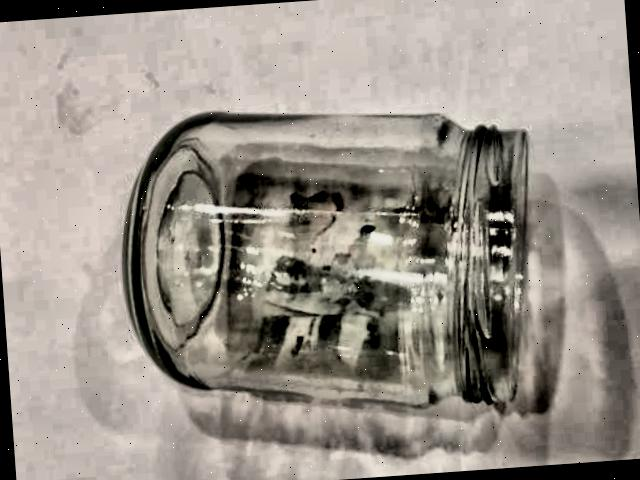Almennt: (109, 70, 566, 461)
